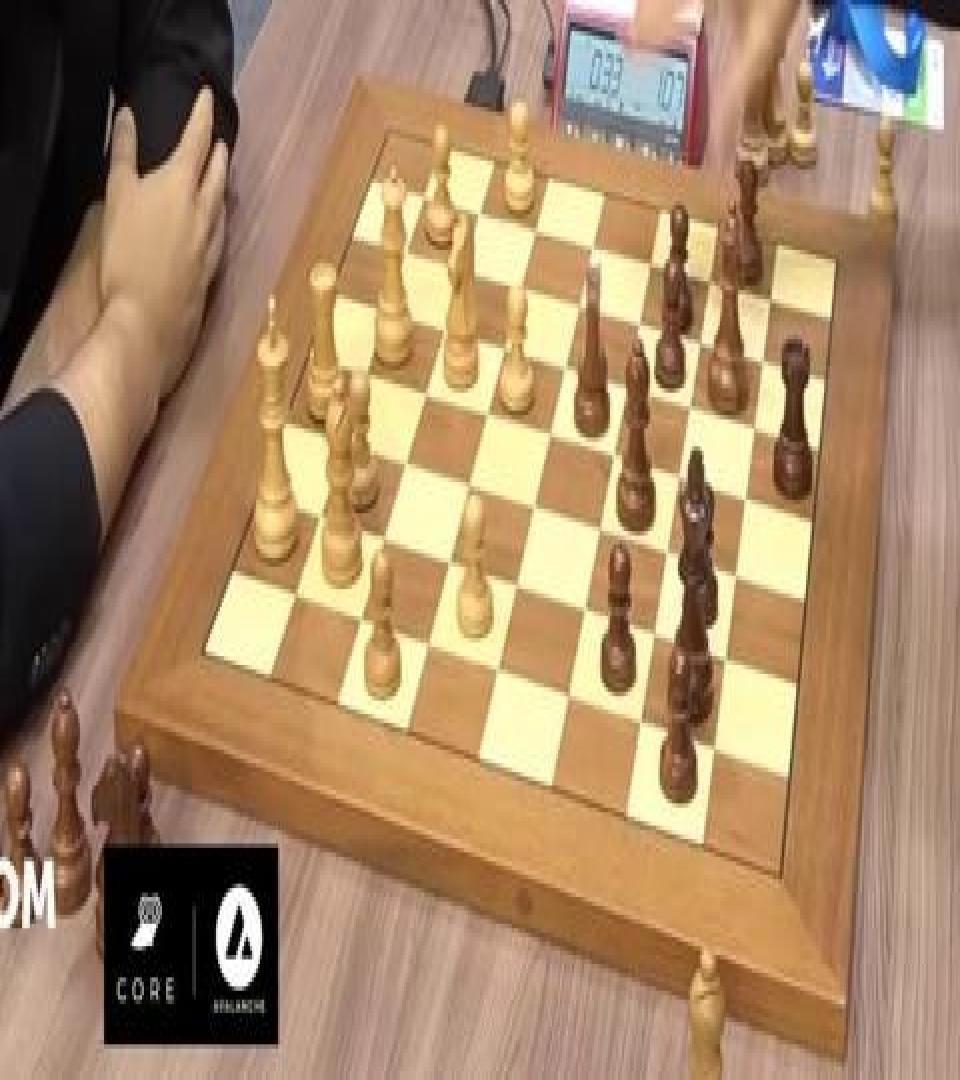xcorner: (420, 178, 432, 206), (748, 412, 760, 440), (685, 392, 697, 420), (622, 372, 634, 400), (561, 352, 573, 380), (500, 332, 512, 360), (441, 312, 453, 340), (383, 294, 395, 322), (466, 470, 478, 498), (403, 448, 415, 476), (764, 284, 776, 311), (704, 266, 716, 293), (531, 212, 543, 239), (475, 194, 487, 221), (756, 346, 768, 373), (695, 328, 707, 355), (634, 308, 646, 335), (575, 290, 587, 317), (516, 270, 528, 297), (459, 252, 471, 279), (402, 234, 414, 261), (740, 484, 752, 511), (674, 464, 686, 491), (609, 441, 621, 468), (546, 419, 558, 446), (422, 379, 434, 406), (362, 359, 374, 386), (730, 562, 742, 589), (530, 493, 542, 520), (341, 426, 353, 453), (720, 645, 732, 672), (650, 620, 662, 647), (513, 571, 525, 598), (446, 546, 458, 573), (381, 522, 393, 549), (317, 499, 329, 526), (709, 734, 721, 761), (636, 707, 648, 734), (565, 681, 577, 708), (426, 629, 438, 656), (358, 603, 370, 630), (292, 578, 304, 605), (645, 248, 657, 274), (588, 230, 600, 256), (484, 400, 496, 426), (662, 538, 674, 564), (595, 516, 607, 542), (581, 596, 593, 622), (494, 654, 506, 680)
